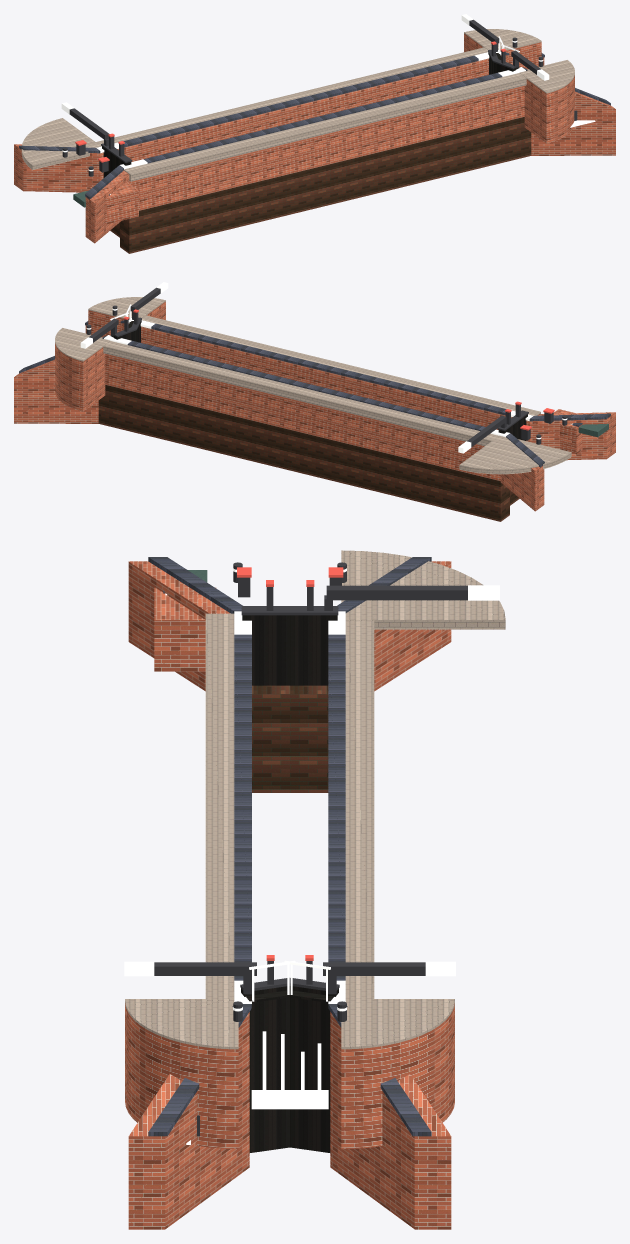
The model's file is lock-23.glb.
3 renders of one model, top to bottom at view 1: azimuth 30°, elevation 25°; view 2: azimuth 150°, elevation 25°; view 3: azimuth 270°, elevation 25°, orthographic. The views are drawn at different scales.
Visible parts, largest first — view 1: Chamber, ChamberWet, Edge, Coping.001, TopGateCap, Coping, TopGate; view 2: Chamber, ChamberWet, Edge, Coping.001, TopGateCap, Coping, TopGate; view 3: Chamber, Edge, Coping.001, TopGate, TopGateCap, ChamberWet, Coping, Leak.
Part boxes in pixels (x1,y1,x2,y2): Chamber: [14, 33, 615, 243]; ChamberWet: [110, 117, 531, 253]; Edge: [21, 29, 574, 181]; Coping.001: [19, 51, 610, 199]; TopGateCap: [62, 19, 577, 176]; Coping: [61, 14, 549, 171]; TopGate: [102, 53, 519, 177]; Chamber: [14, 301, 615, 511]; ChamberWet: [98, 385, 519, 521]; Edge: [55, 297, 571, 474]; Coping.001: [19, 319, 610, 467]; TopGateCap: [86, 287, 567, 447]; Coping: [80, 282, 567, 453]; TopGate: [110, 321, 527, 440]; Chamber: [125, 561, 454, 1229]; Edge: [125, 550, 505, 1049]; Coping.001: [148, 557, 431, 1136]; TopGate: [241, 615, 338, 1152]; TopGateCap: [154, 562, 467, 1136]; ChamberWet: [252, 685, 328, 792]; Coping: [124, 568, 499, 1011]; Leak: [165, 593, 328, 1144].
Size of the model in its own units: 33.37 by 6 by 10.4.
11 materials, 8 textured.
